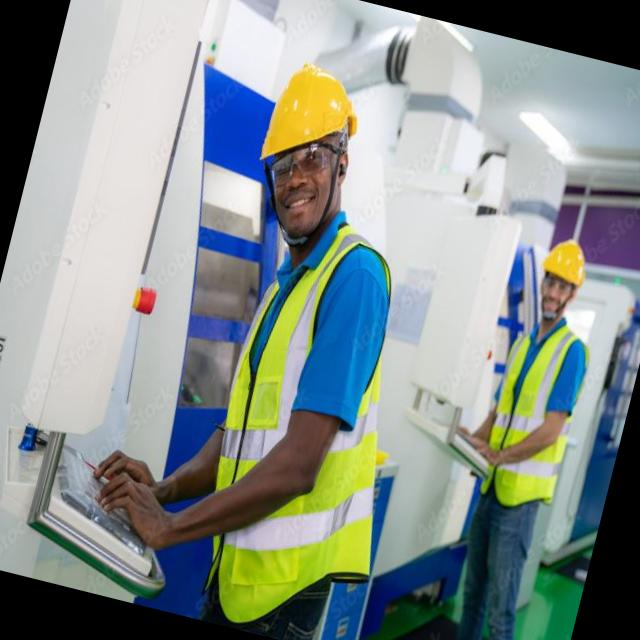Helmet: (248, 57, 376, 182), (540, 215, 602, 282)
Vest: (174, 198, 460, 640), (448, 306, 605, 524)
